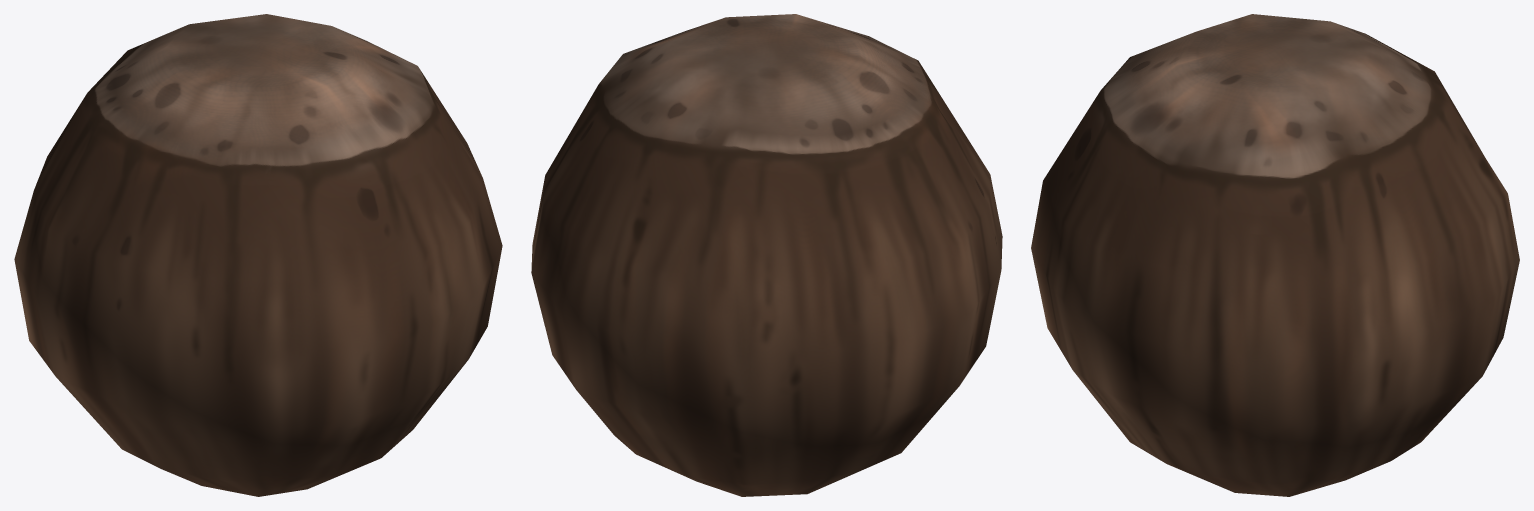
The model's file is Nut.FBX.
3 views of the same model, side by side, from view 1: azimuth 30°, elevation 25°; view 2: azimuth 150°, elevation 25°; view 3: azimuth 270°, elevation 25° (orthographic).
Visible parts, largest first — view 1: 111; view 2: 111; view 3: 111.
Boxes of the visible parts, x1,y1,x2,y2 form: 111: [14, 14, 502, 496]; 111: [531, 14, 1002, 496]; 111: [1031, 14, 1519, 496].
Bounding box in the file's own units: 85.5 × 86.3 × 85.5.
